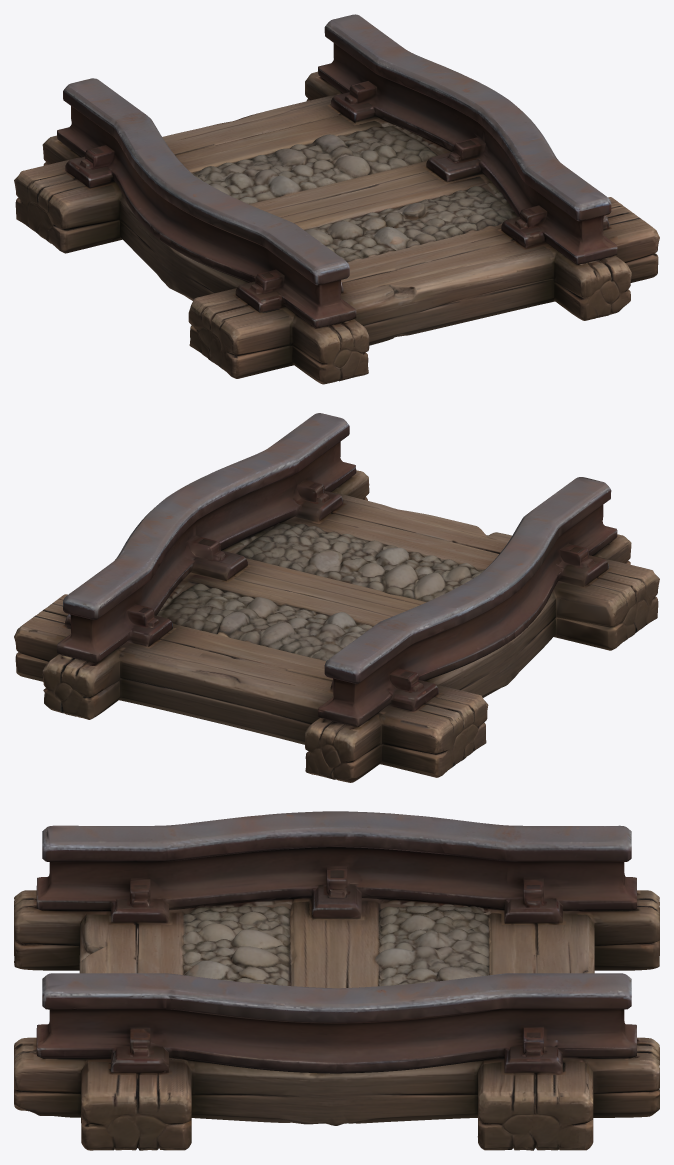
Rendered from rail2_1024.glb.
3 views of the same model, one above another, from view 1: azimuth 30°, elevation 25°; view 2: azimuth 150°, elevation 25°; view 3: azimuth 270°, elevation 25° (orthographic). The views are drawn at different scales.
Parts seen in each view (by area): view 1: node_0; view 2: node_0; view 3: node_0.
Part boxes in pixels (x1,y1,x2,y2): node_0: (14, 14, 659, 384); node_0: (14, 413, 659, 782); node_0: (14, 811, 659, 1150).
Bounding box in the file's own units: 0.883 × 0.2153 × 1.
1 material, 1 textured.
